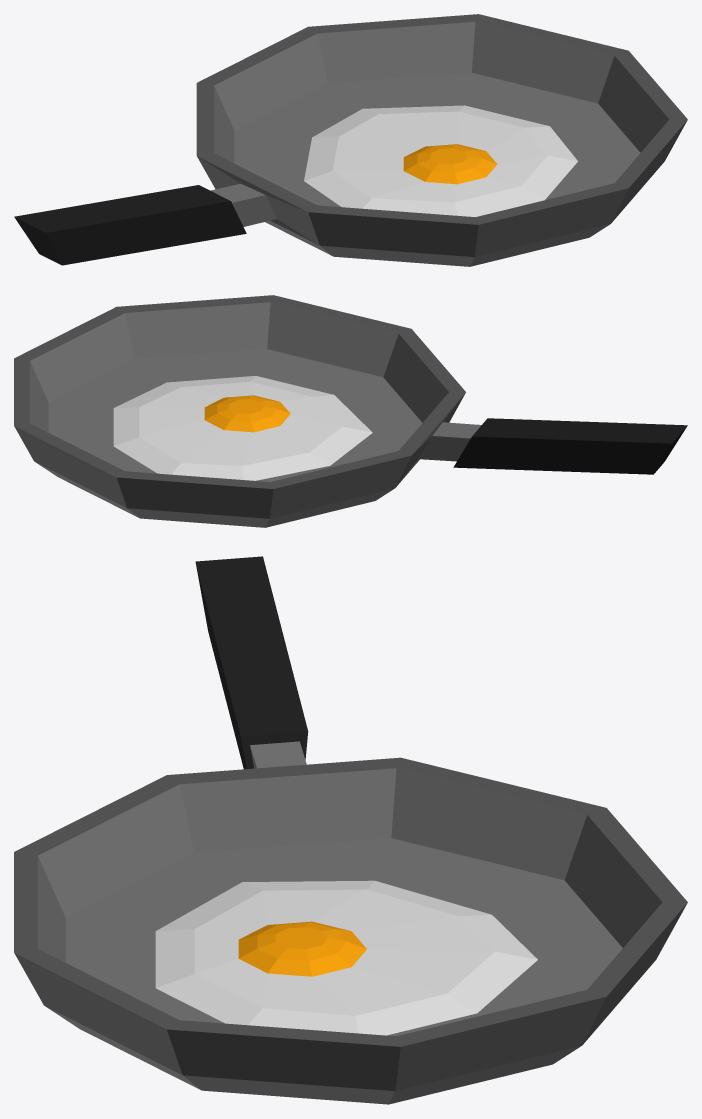
File: FriedEgg.fbx
The picture shows the model from 3 angles, top to bottom: view 1: azimuth 30°, elevation 25°; view 2: azimuth 150°, elevation 25°; view 3: azimuth 270°, elevation 25°; orthographic projection. The views are drawn at different scales.
Parts seen in each view (by area): view 1: Cylinder; view 2: Cylinder; view 3: Cylinder.
Boxes of the visible parts, x1=… form: Cylinder: x1=14, y1=14, x2=687, y2=266; Cylinder: x1=14, y1=295, x2=687, y2=527; Cylinder: x1=14, y1=556, x2=687, y2=1104.
Bounding box in the file's own units: 354 × 48.97 × 226.
Materials: 1 (1 with a texture image).
